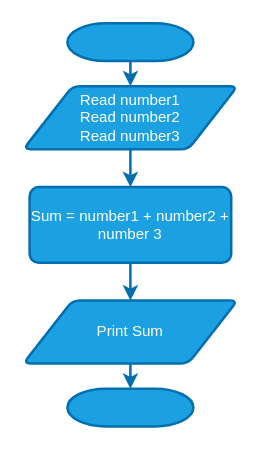
The diagram is 260 pixels wide and 449 high, and some of its shapes have lost their labels. The shapes that lost their labels are listed below. From the top down, each one's box as (x1, y1, x2, y2) in pixels, then its label:
(66, 21, 194, 62): start
(66, 387, 194, 427): End
